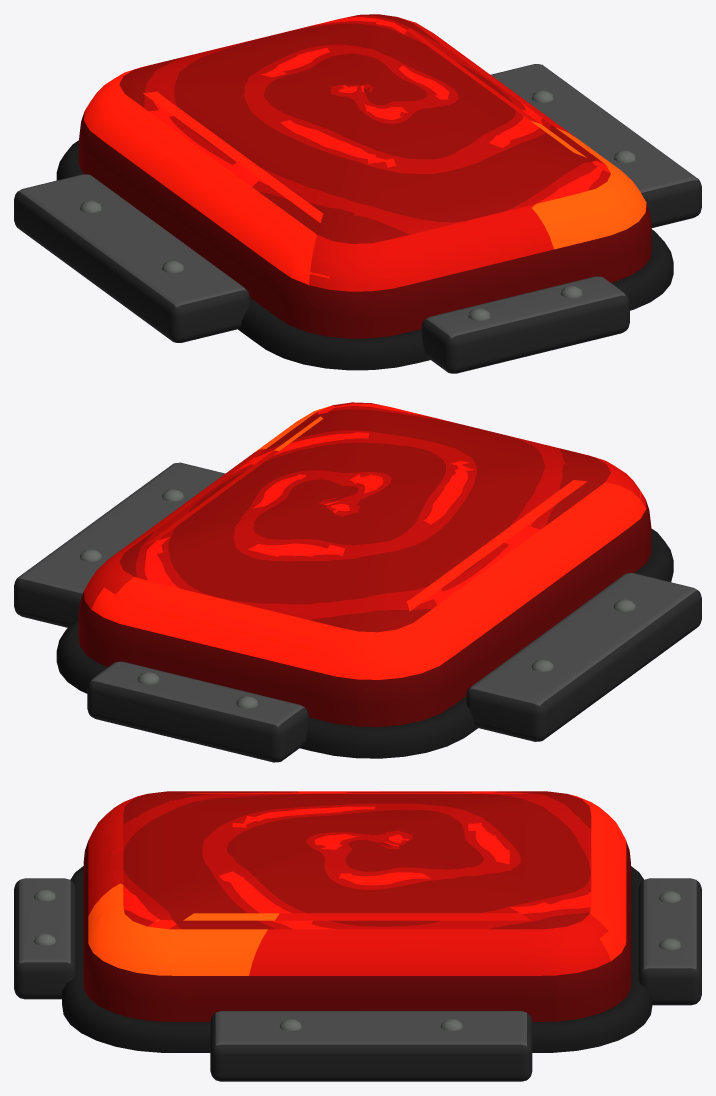
File: redgem_panel_231.glb
The picture shows the model from 3 angles, top to bottom: view 1: azimuth 30°, elevation 25°; view 2: azimuth 150°, elevation 25°; view 3: azimuth 270°, elevation 25°; orthographic projection. The views are drawn at different scales.
Parts seen in each view (by area): view 1: gem, clamp2, clamp1, clamp3, bezel; view 2: gem, clamp2, clamp0, clamp3, bezel; view 3: gem, clamp3, bezel, clamp0, clamp1.
Boxes of the visible parts, x1,y1,x2,y2 form: gem: (78,14,651,338); clamp2: (14,174,249,342); clamp1: (421,276,629,373); clamp3: (490,64,701,227); bezel: (56,140,673,370); gem: (78,402,651,726); clamp2: (466,573,701,741); clamp0: (87,661,308,762); clamp3: (14,462,225,627); bezel: (56,529,673,758); gem: (83,791,631,1021); clamp3: (210,1011,532,1081); bezel: (62,866,652,1052); clamp0: (638,878,701,1005); clamp1: (14,878,75,999).
Size of the model in its own units: 21.3 by 4.75 by 24.35.
